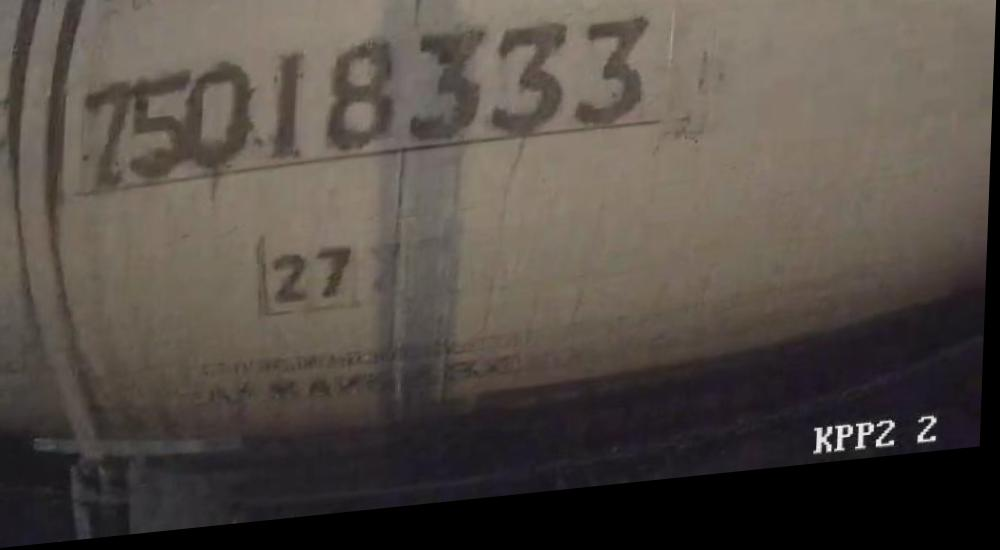Wagon-number: (77, 22, 658, 193)
